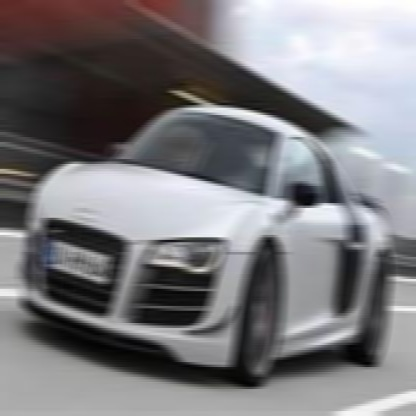Vehicle: (21, 91, 394, 392)
